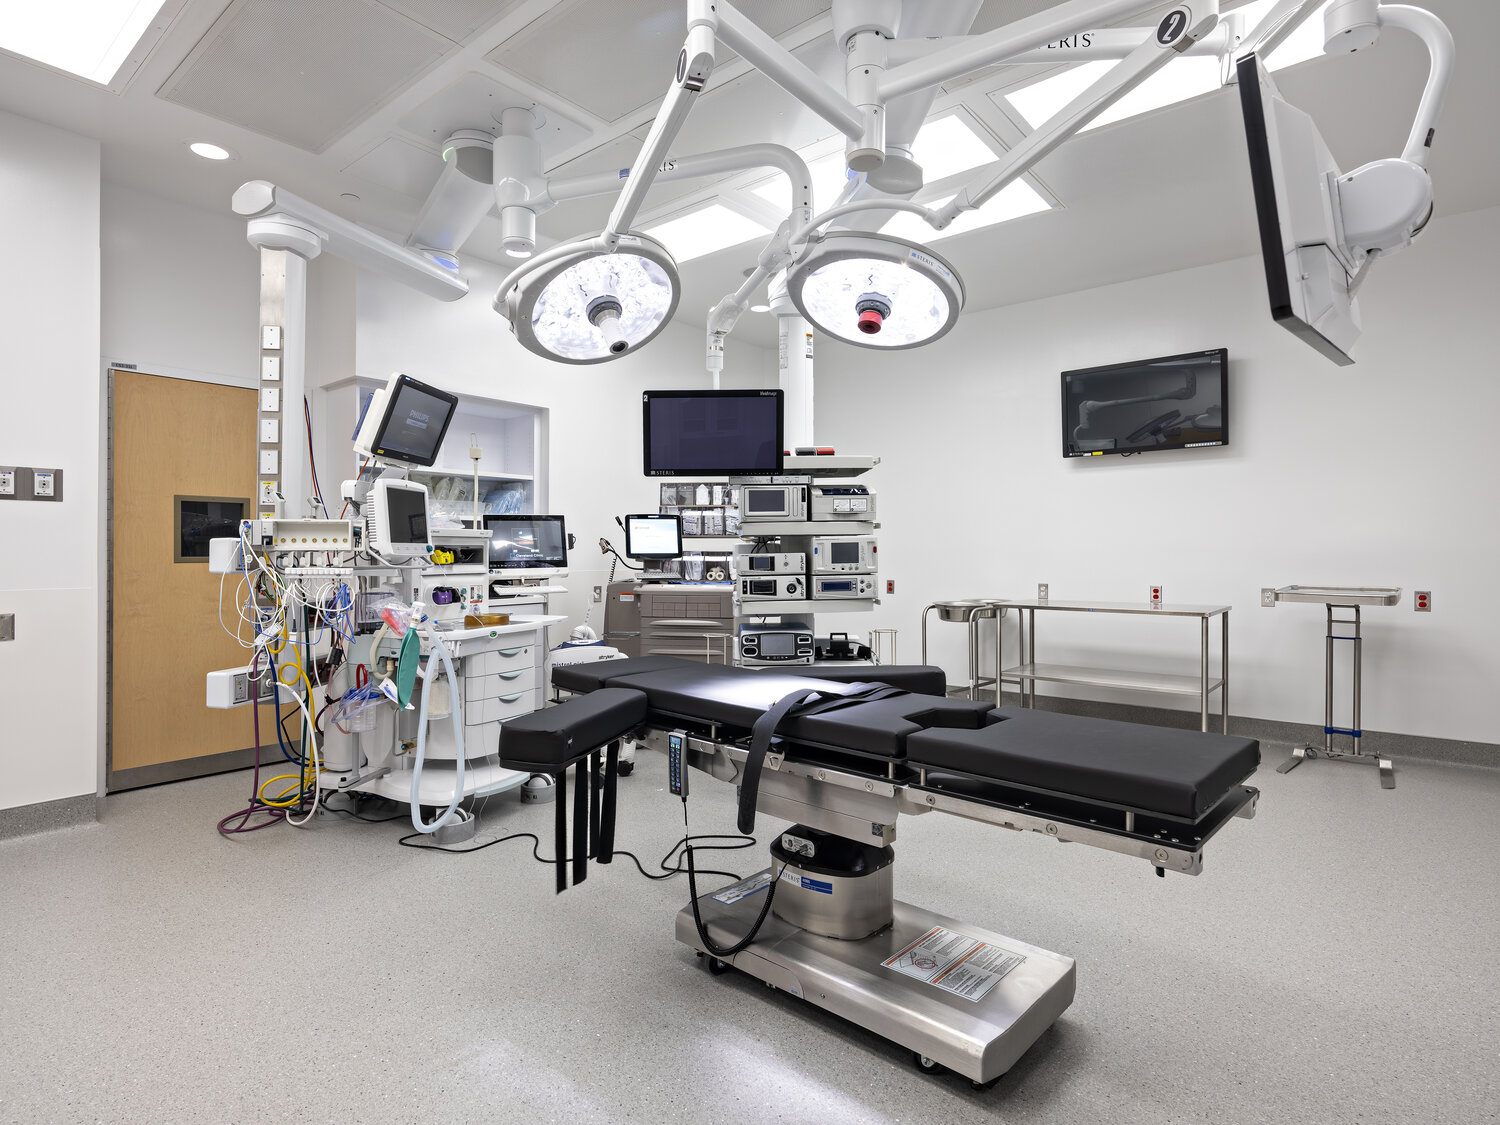TV: (1235, 54, 1362, 366), (1062, 347, 1230, 459)
bedside_monitor: (643, 389, 784, 477), (352, 373, 454, 467), (377, 488, 435, 560)
breathing_tube: (404, 649, 470, 830)
computer: (481, 513, 569, 581), (625, 513, 684, 561)
handle: (498, 668, 531, 685), (498, 642, 531, 659), (496, 692, 530, 709)
keyboard: (495, 585, 569, 596), (635, 574, 681, 581)
medical_drawer: (438, 640, 543, 762), (630, 577, 733, 646)
operating_bed: (497, 655, 1280, 1094)
surgical_light: (493, 230, 681, 364), (785, 230, 967, 351)
utility_cart: (994, 599, 1233, 735), (1261, 584, 1403, 789)
ventilator: (357, 555, 553, 812)
